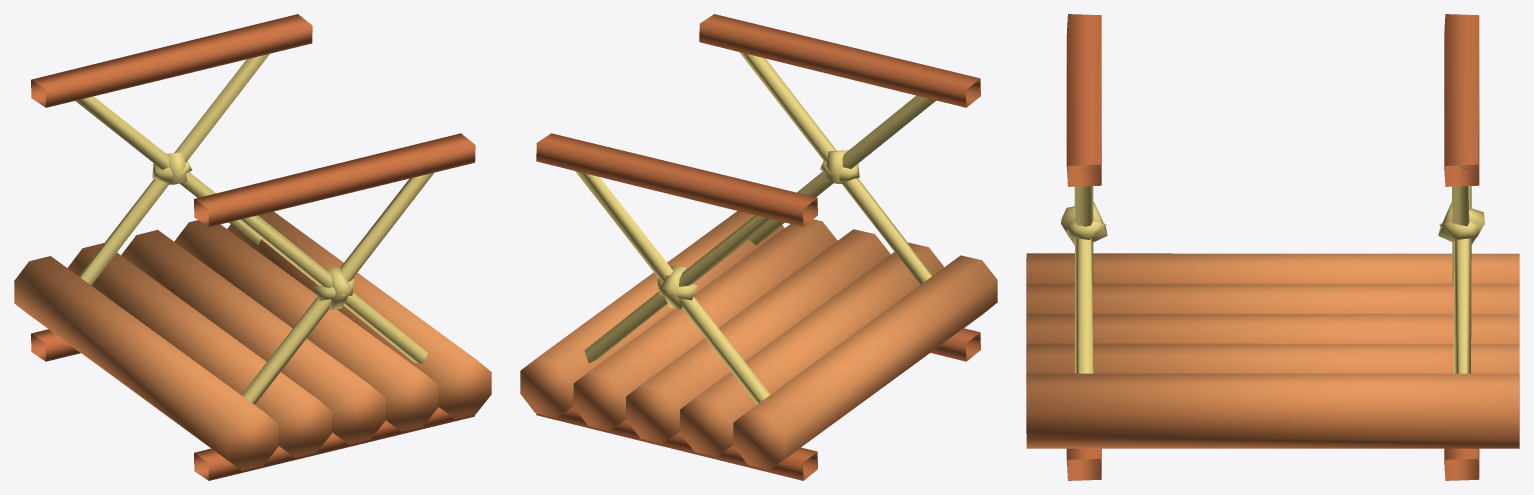
Rendered from bridgeTile.glb.
3 renders of one model, left to right at view 1: azimuth 30°, elevation 25°; view 2: azimuth 150°, elevation 25°; view 3: azimuth 270°, elevation 25°, orthographic. The views are drawn at different scales.
Visible parts, largest first — view 1: bridgeTile; view 2: bridgeTile; view 3: bridgeTile.
Part boxes in pixels (x1,y1,x2,y2): bridgeTile: (14,14,491,480); bridgeTile: (520,14,997,480); bridgeTile: (1026,14,1519,480).
Bounding box in the file's own units: 1 × 0.9783 × 1.38.
Materials: 1 (1 with a texture image).
